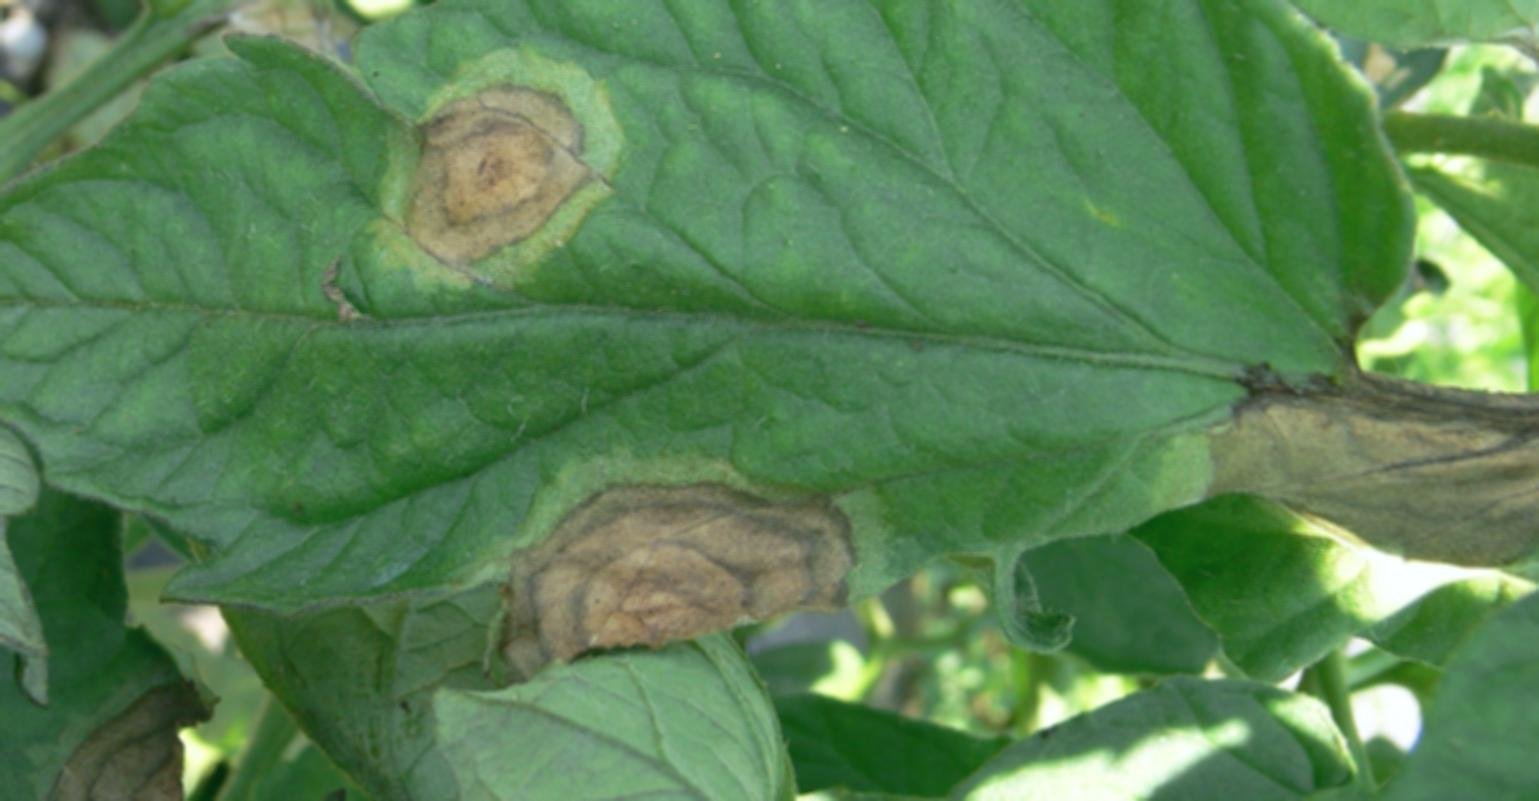Tomato leaf late blight: (0, 0, 1538, 690)
